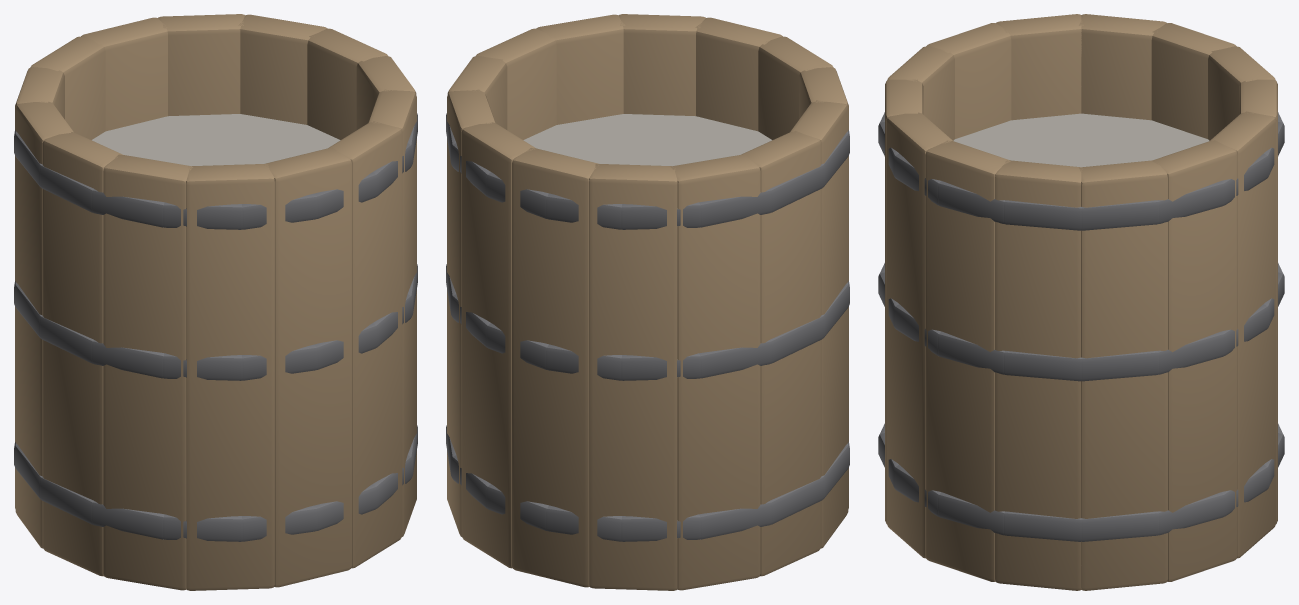
File: barrel_open.glb
3 renders of one model, left to right at view 1: azimuth 30°, elevation 25°; view 2: azimuth 150°, elevation 25°; view 3: azimuth 270°, elevation 25°, orthographic.
Visible parts, largest first — view 1: barrel_open; view 2: barrel_open; view 3: barrel_open.
Part boxes in pixels (x1,y1,x2,y2): barrel_open: (14, 14, 417, 590); barrel_open: (446, 14, 849, 590); barrel_open: (878, 14, 1284, 590).
Size of the model in its own units: 0.733 by 0.82 by 0.733.
